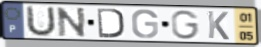D: (96, 7, 126, 39)
G: (170, 9, 201, 41), (131, 8, 161, 39)
K: (206, 10, 231, 41)
N: (55, 7, 88, 39)
U: (25, 4, 58, 38)
